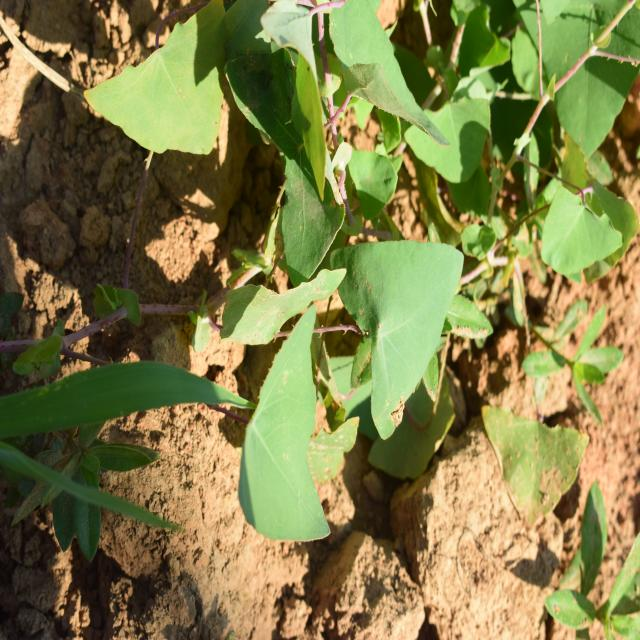Asiatic_Smartweed: (211, 219, 457, 552), (251, 0, 467, 189)
